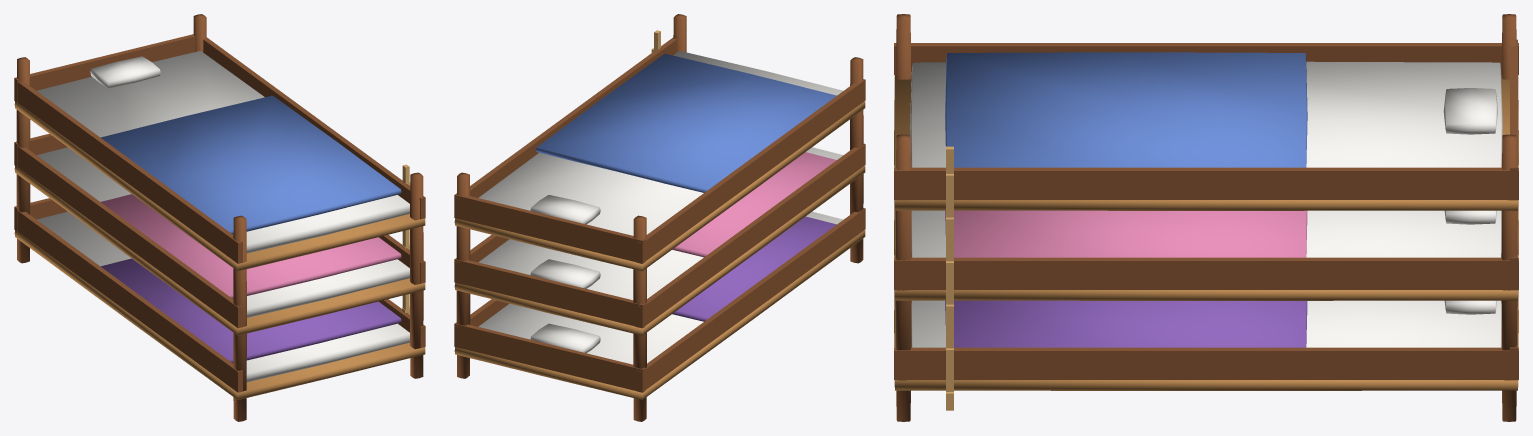
File: bunk_bed.glb
3 views of the same model, side by side, from view 1: azimuth 30°, elevation 25°; view 2: azimuth 150°, elevation 25°; view 3: azimuth 270°, elevation 25° (orthographic). The views are drawn at different scales.
Visible parts, largest first — view 1: root; view 2: root; view 3: root.
Part boxes in pixels (x1=…): root: x1=14, y1=14, x2=425, y2=421; root: x1=454, y1=14, x2=865, y2=421; root: x1=894, y1=14, x2=1518, y2=421.
Bounding box in the file's own units: 1.94 × 1.95 × 3.9.
